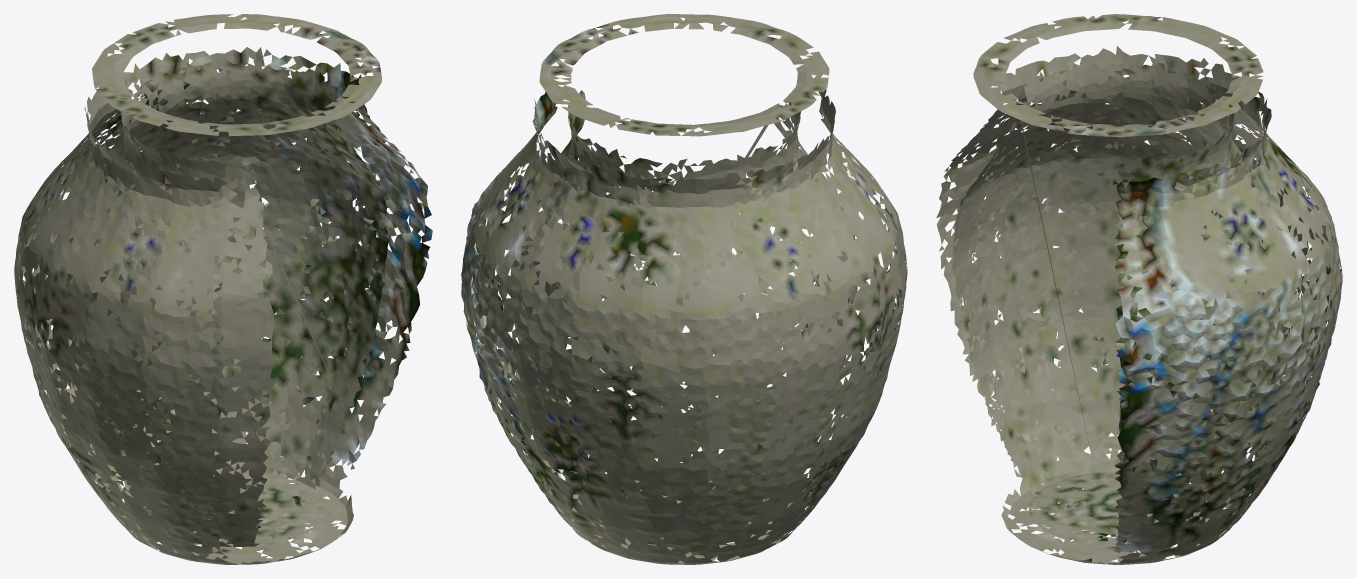
File: vase2_final800.obj
The picture shows the model from 3 angles, left to right: view 1: azimuth 30°, elevation 25°; view 2: azimuth 150°, elevation 25°; view 3: azimuth 270°, elevation 25°; orthographic projection.
Size of the model in its own units: 1.57 by 1.71 by 1.42.
